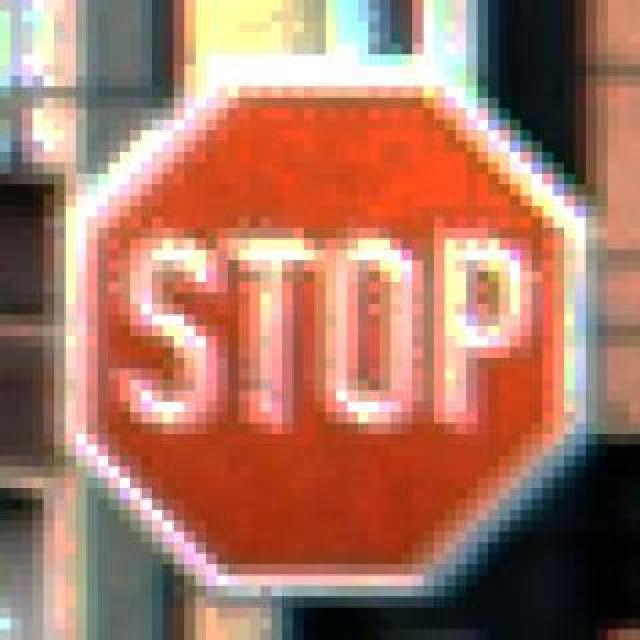stop: (44, 44, 576, 576)
